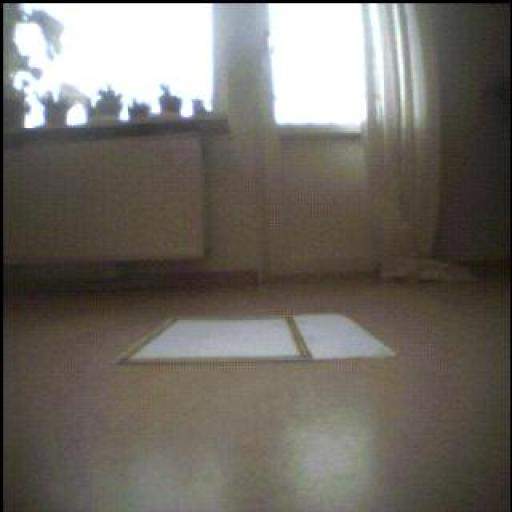Pad: (118, 315, 396, 364)
